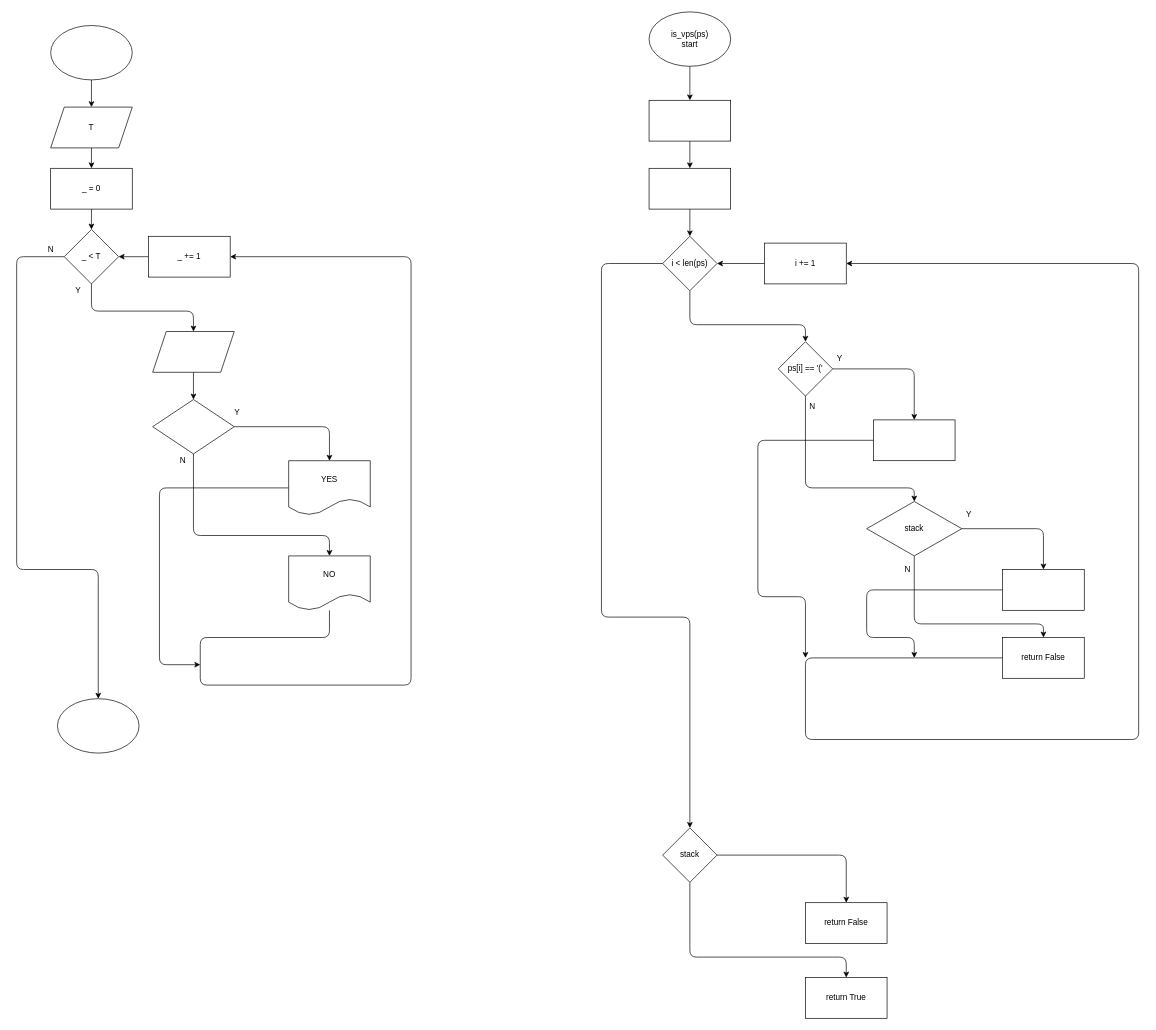
The diagram is 1156 pixels wide and 1030 high, and some of its shapes have lost their labels. Each missing label, with the box of its shape:
end: (57, 698, 139, 753)
i = 0: (648, 168, 731, 209)
is_vps(ps): (152, 399, 234, 454)
ps: (152, 331, 234, 372)
stack = deque(): (648, 100, 731, 141)
stack.append('('): (873, 419, 955, 461)
stack.pop(): (1002, 569, 1084, 610)
start: (50, 25, 132, 80)
